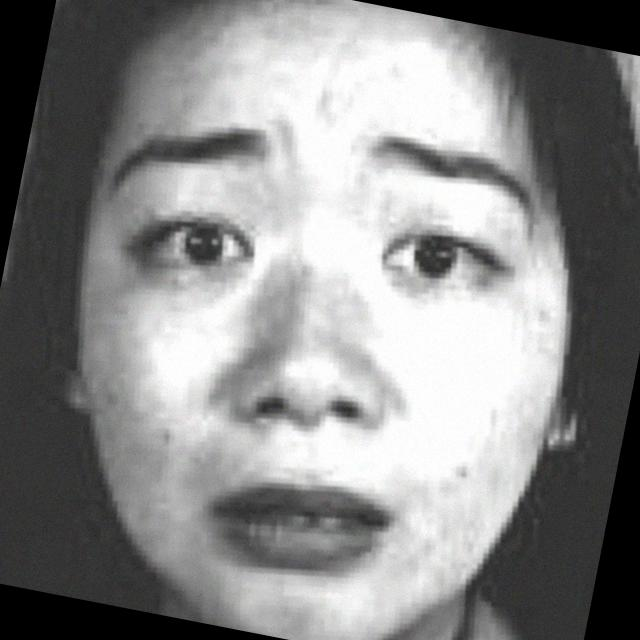fear: (23, 9, 603, 640)
